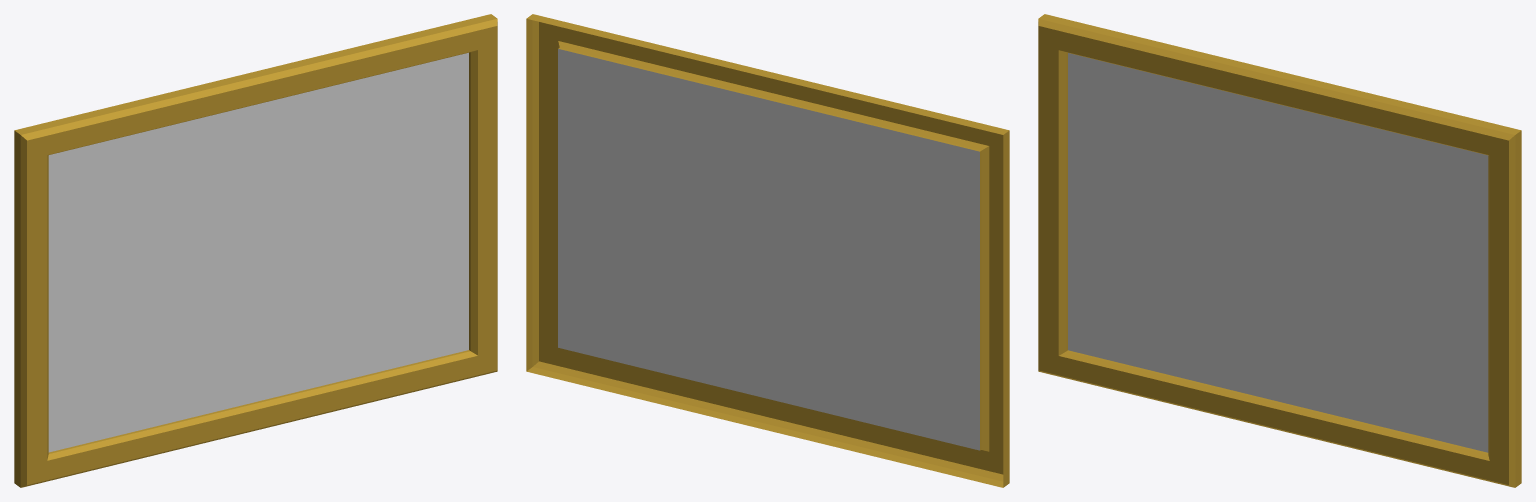
File: frame2.obj
3 renders of one model, left to right at view 1: azimuth 30°, elevation 25°; view 2: azimuth 150°, elevation 25°; view 3: azimuth 330°, elevation 25°, orthographic.
Visible parts, largest first — view 1: frame2; view 2: frame2; view 3: frame2.
Boxes of the visible parts, x1,y1,x2,y2 form: frame2: (14, 14, 497, 487); frame2: (526, 14, 1009, 487); frame2: (1038, 14, 1521, 487).
Size of the model in its own units: 1.2 by 0.8475 by 0.041.
